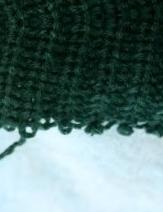snag: (1, 126, 41, 166)
